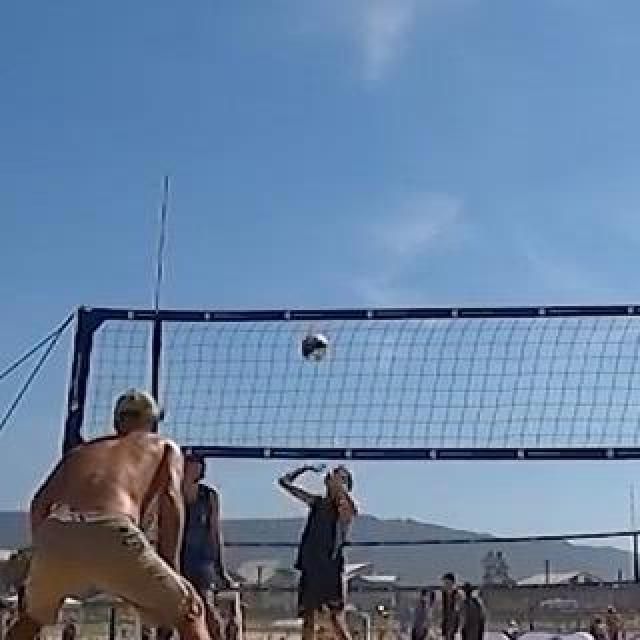volleyball: (303, 333, 329, 363)
